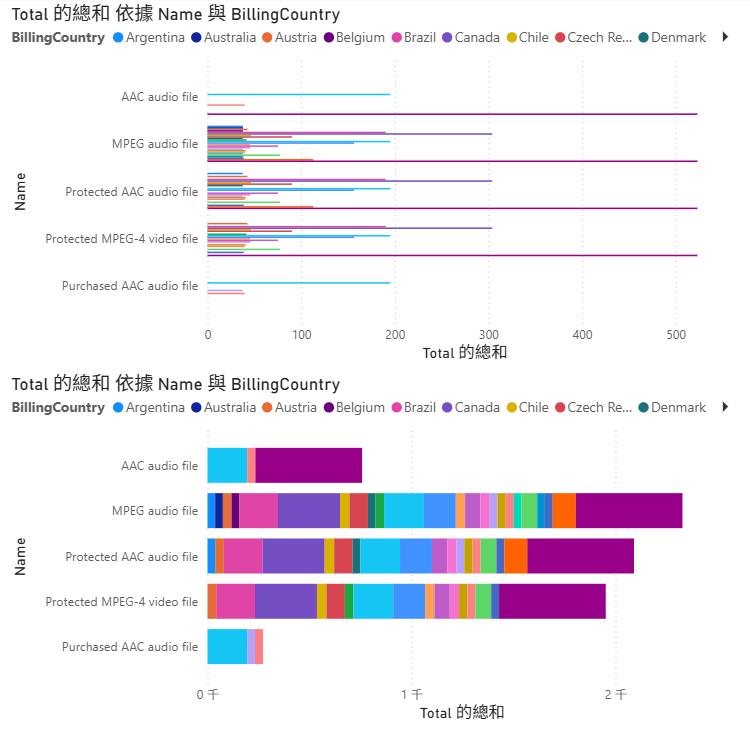

The dashboard page shown, as its layout file describes it:
{"tool":"powerbi","page":{"name":"第 1 頁","canvas":[1280,720],"ordinal":0},"visuals":[{"type":"clusteredBarChart","fields":{"Category":["MediaType.Name"],"Y":["Sum(Invoice.Total)"],"Series":["Invoice.BillingCountry"]},"box":[9.7,0,712,359.9],"z":0},{"type":"barChart","fields":{"Category":["MediaType.Name"],"Y":["Sum(Invoice.Total)"],"Series":["Invoice.BillingCountry"]},"box":[9.7,359.9,712,350.2],"z":1000}]}

Visuals, with their boxes on the page's 1280x720 design canvas (x1, y1, x2, y2). These are canvas units, not pixel positions in the 750x731 screenshot, which may show the page scaled, cropped or inside an application window:
clusteredBarChart - MediaType.Name x Sum(Invoice.Total): [10, 0, 722, 360]
barChart - MediaType.Name x Sum(Invoice.Total): [10, 360, 722, 710]
